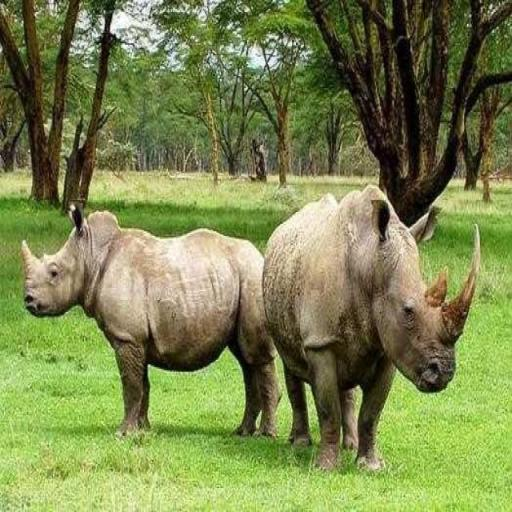Rhino: (261, 182, 481, 473), (19, 200, 282, 440)
